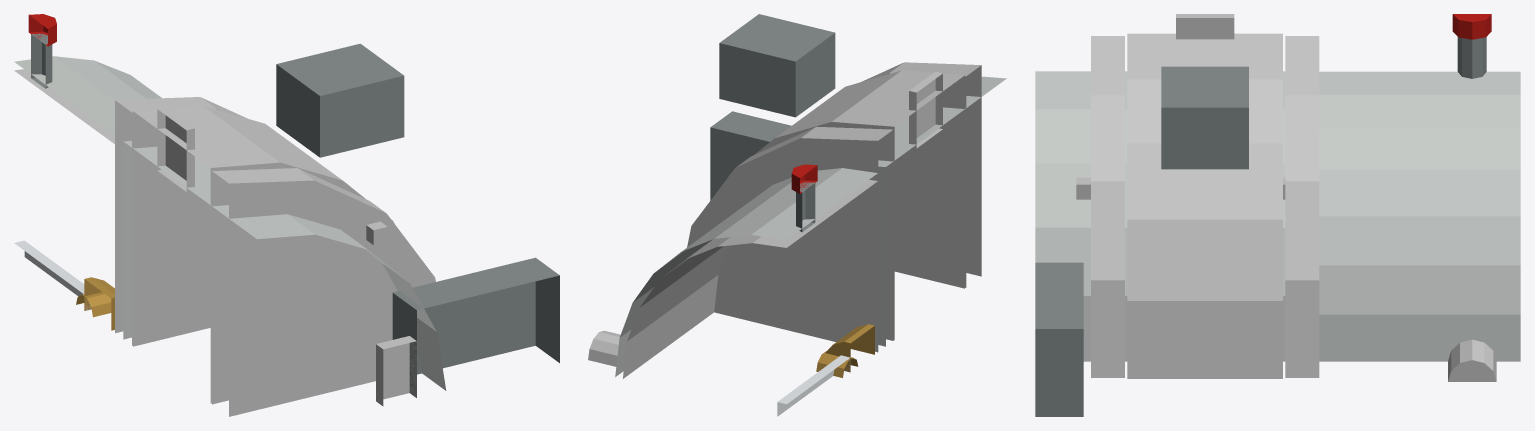
File: cell_94.obj
The picture shows the model from 3 angles, left to right: view 1: azimuth 30°, elevation 25°; view 2: azimuth 150°, elevation 25°; view 3: azimuth 270°, elevation 25°; orthographic projection. The views are drawn at different scales.
Bounding box in the file's own units: 0.72 × 0.6 × 1.
